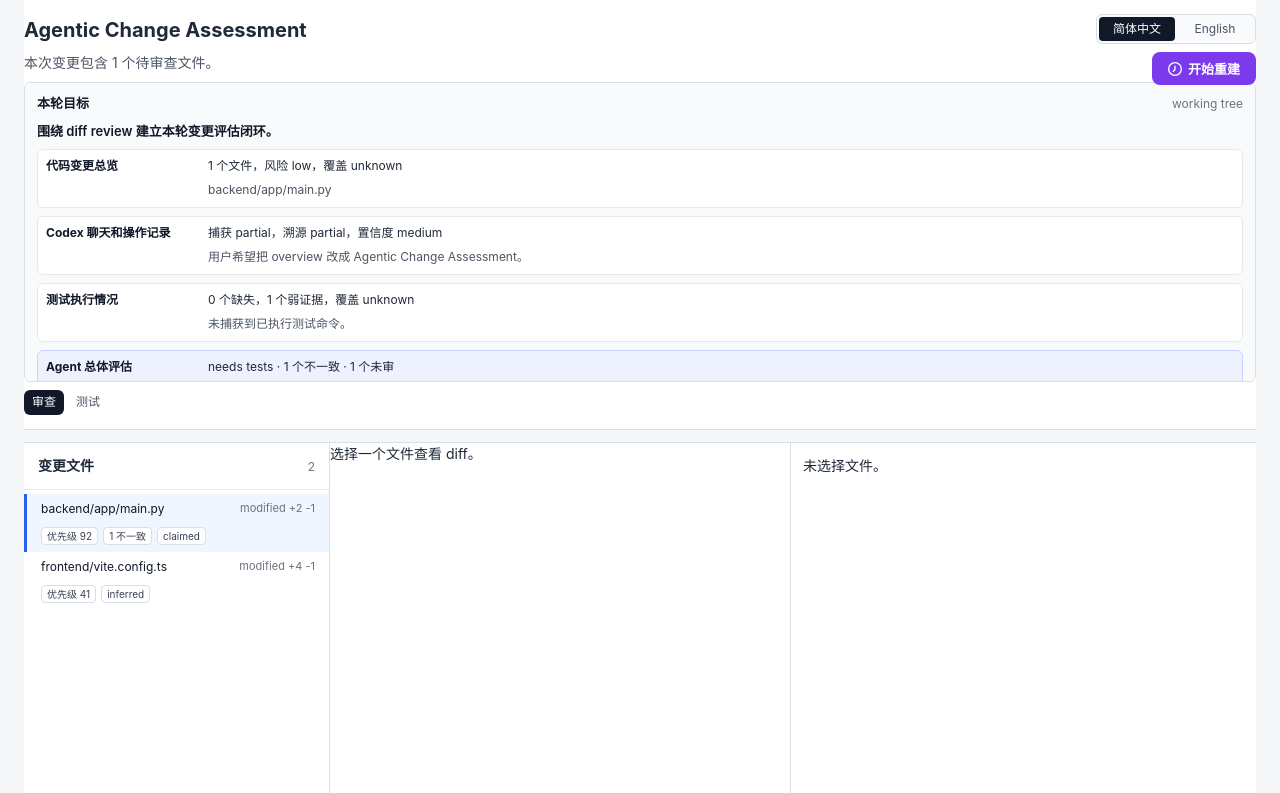
Test case: AssessmentReviewPage › switches the assessment UI to English
Click the button "English".
click(1215, 29)  # box [1177, 17, 1253, 41]
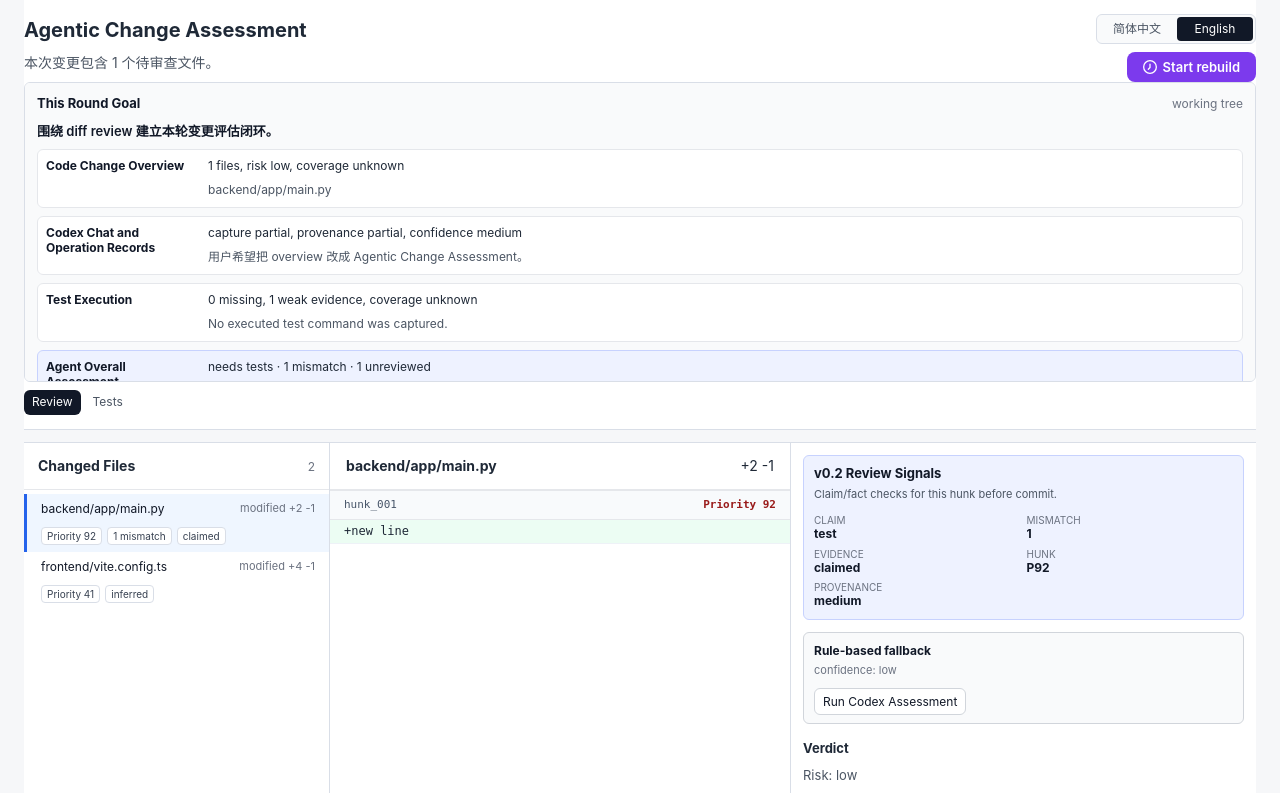
expect the heading "Code Change Overview" is shown: met, box [46, 158, 184, 173]
expect the heading "Codex Chat and Operation Records" is shown: met, box [46, 225, 155, 255]
expect the heading "Test Execution" is shown: met, box [46, 292, 132, 307]
